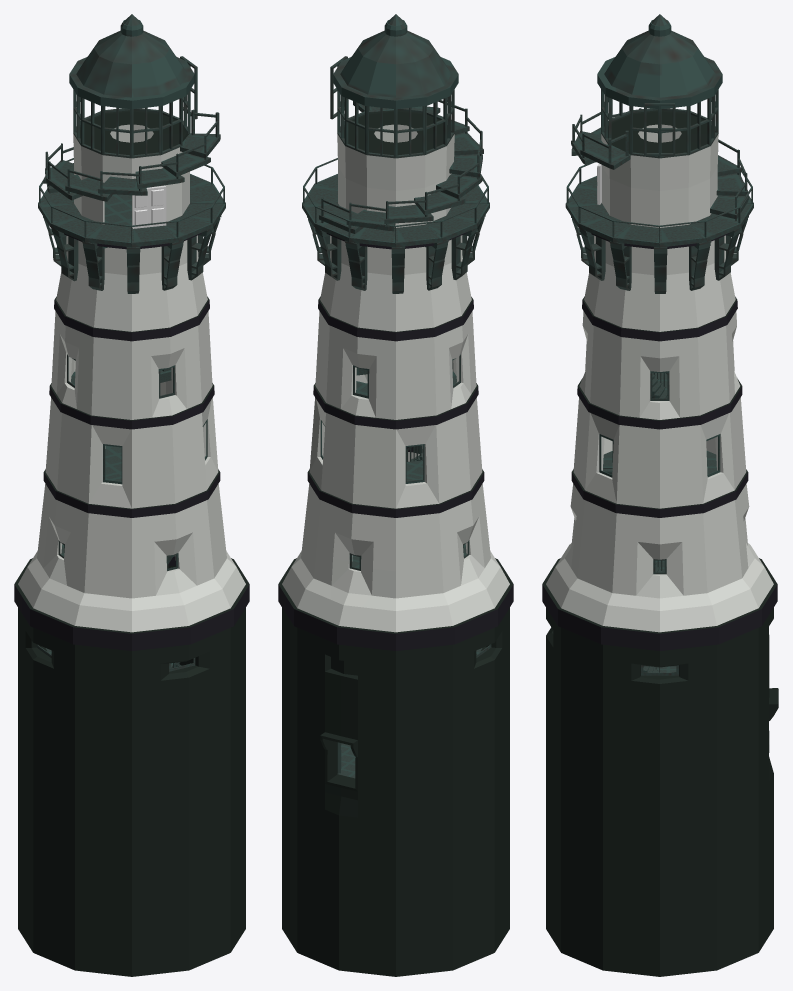
The model's file is Lighthosue_1.6.fbx.
3 renders of one model, left to right at view 1: azimuth 30°, elevation 25°; view 2: azimuth 150°, elevation 25°; view 3: azimuth 270°, elevation 25°, orthographic.
Parts seen in each view (by area): view 1: LH_Slice, Circle.003, floor_6_ground.009, Stütze.001, floor_6_ground.006, Window_bend.001, Cube.002, floor_6_ground.008, floor_6_ground.007, a.002, Grid.006; view 2: LH_Slice, Circle.003, floor_6_ground.006, floor_6_ground.009, Stütze.001, Window_bend.001, floor_6_ground.008, floor_6_ground.007; view 3: LH_Slice, Circle.003, floor_6_ground.009, Stütze.001, floor_6_ground.006, Window_bend.001, floor_6_ground.007, floor_6_ground.008, Window.
Boxes of the visible parts, <box> form: LH_Slice: <box>14,110,249,976</box>; Circle.003: <box>69,14,194,109</box>; floor_6_ground.009: <box>38,174,225,247</box>; Stütze.001: <box>43,216,221,293</box>; floor_6_ground.006: <box>43,133,220,201</box>; Window_bend.001: <box>73,90,190,158</box>; Cube.002: <box>132,185,166,228</box>; floor_6_ground.008: <box>45,121,218,195</box>; floor_6_ground.007: <box>39,158,224,242</box>; a.002: <box>103,194,131,248</box>; Grid.006: <box>105,445,121,481</box>; LH_Slice: <box>278,110,513,976</box>; Circle.003: <box>333,14,458,109</box>; floor_6_ground.006: <box>319,101,483,233</box>; floor_6_ground.009: <box>302,174,489,247</box>; Stütze.001: <box>307,215,485,293</box>; Window_bend.001: <box>337,90,454,158</box>; floor_6_ground.008: <box>321,100,482,227</box>; floor_6_ground.007: <box>303,158,488,242</box>; LH_Slice: <box>542,110,778,976</box>; Circle.003: <box>597,14,722,109</box>; floor_6_ground.009: <box>565,176,753,247</box>; Stütze.001: <box>571,216,748,293</box>; floor_6_ground.006: <box>571,127,748,219</box>; Window_bend.001: <box>601,89,718,158</box>; floor_6_ground.007: <box>566,163,752,242</box>; floor_6_ground.008: <box>572,108,747,220</box>; Window: <box>644,103,674,155</box>.
Size of the model in its own units: 2476 by 10618 by 2488.
Materials: 15 (12 with a texture image).
